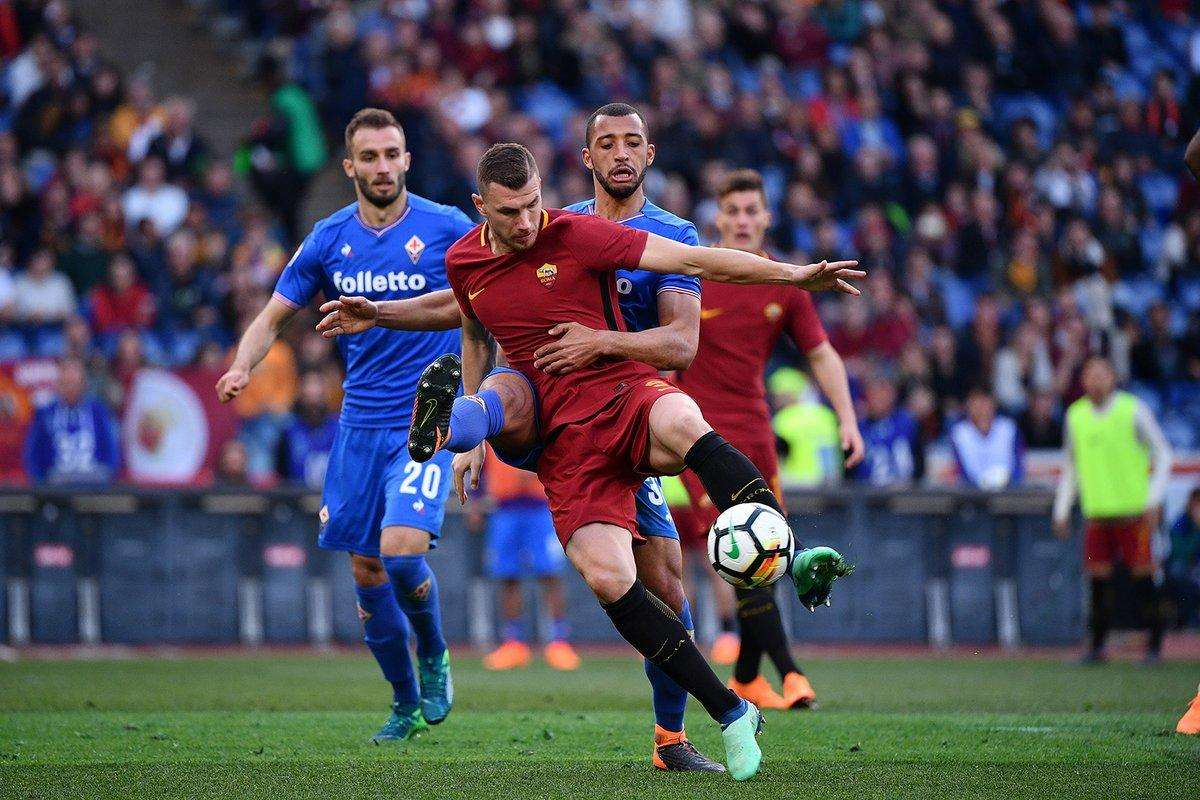ball: (708, 503, 794, 593)
